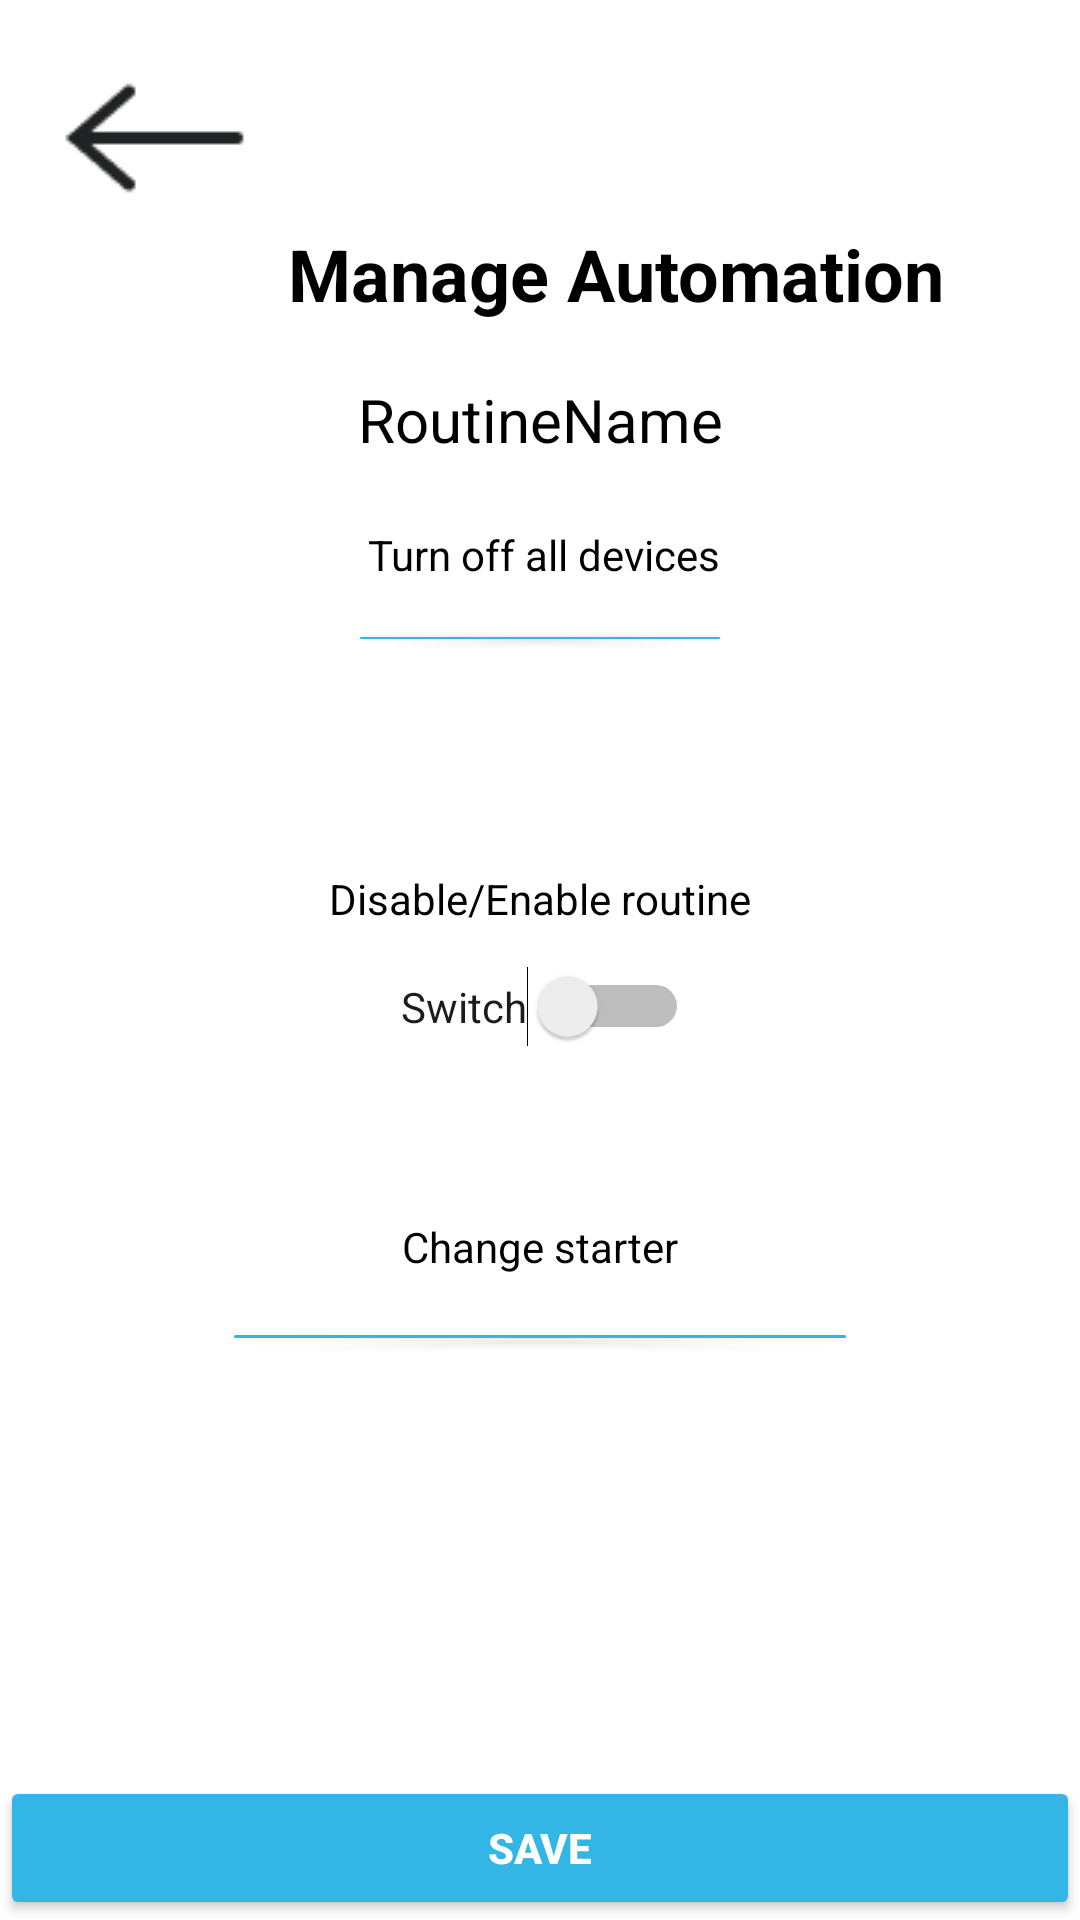

Icon bounding boxes for this 1080px x 1920px phone screenshot, format (x1, y1, x2, y2):
imgbackarrow: (65, 83, 244, 193)
